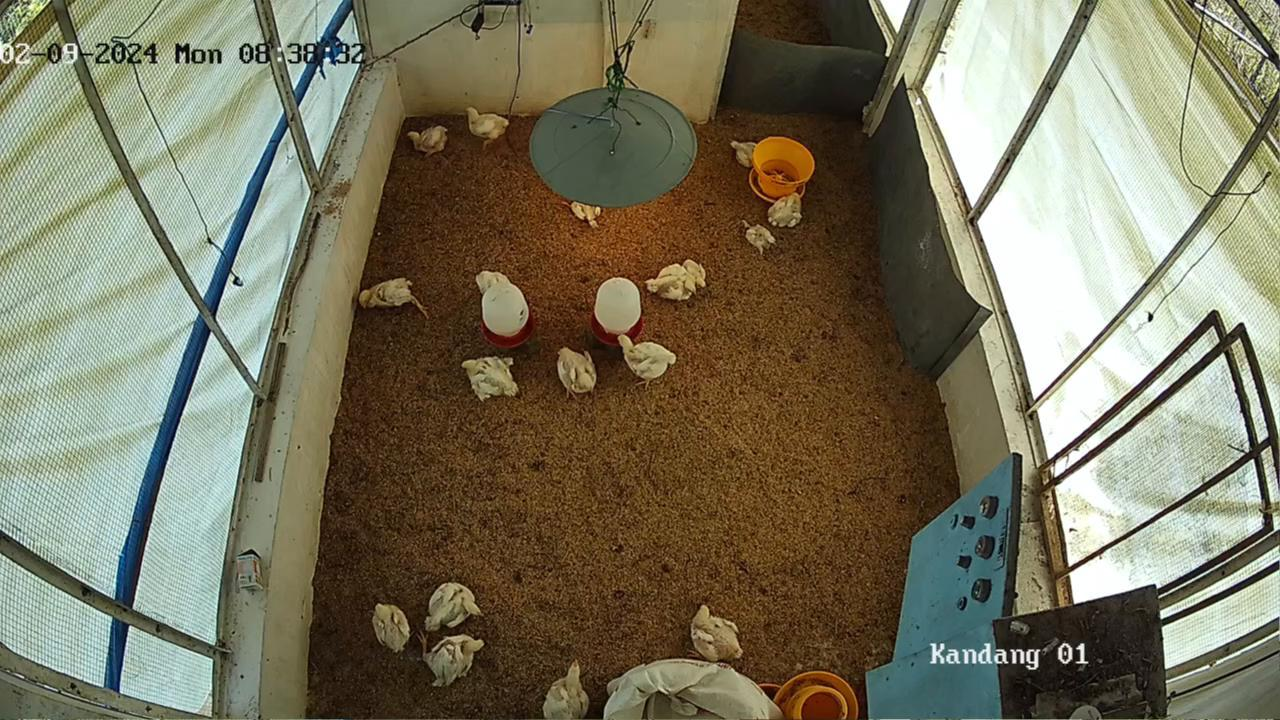chicken: (424, 632, 487, 691), (687, 600, 745, 664), (422, 574, 487, 631), (539, 658, 592, 720), (458, 351, 520, 403), (617, 333, 677, 382), (371, 599, 412, 656), (358, 274, 415, 314), (554, 345, 599, 395), (643, 263, 696, 303), (463, 105, 511, 142), (403, 123, 449, 157), (766, 190, 804, 229), (727, 137, 763, 169), (744, 222, 778, 255), (569, 198, 602, 232), (476, 267, 513, 295), (682, 258, 706, 290)
